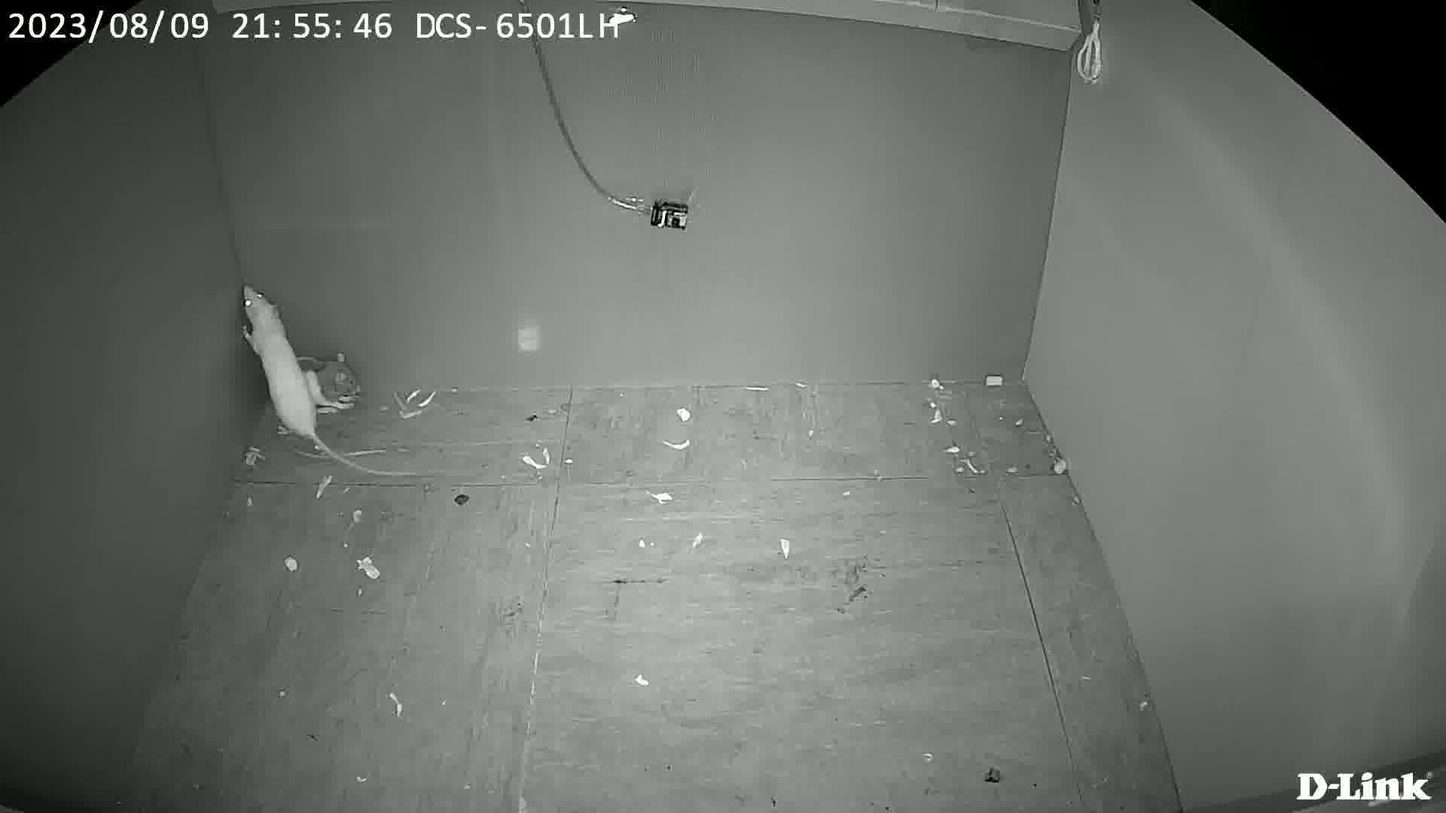rat: (223, 281, 321, 449)
